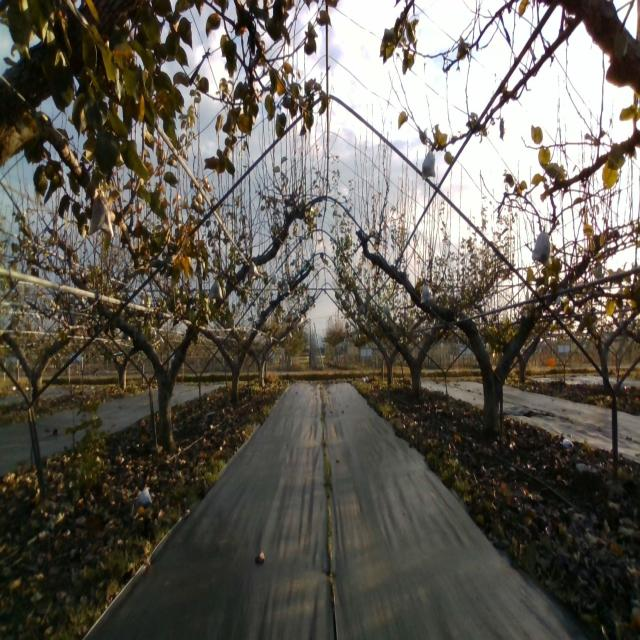pearbags: (89, 190, 114, 239), (532, 225, 551, 268), (422, 146, 436, 180), (208, 279, 224, 302), (420, 282, 433, 304), (248, 260, 259, 283)
